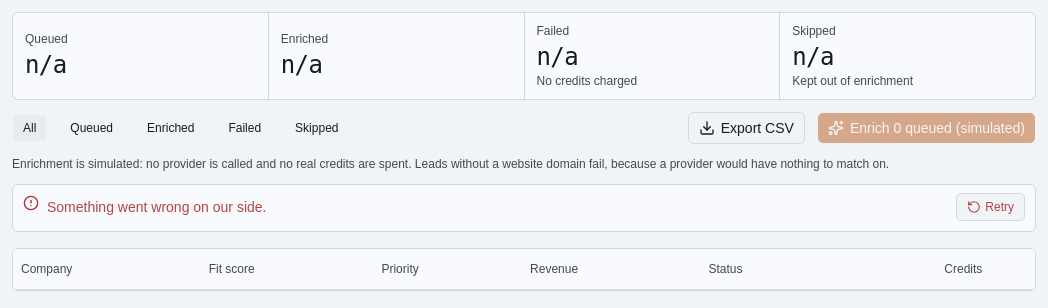
Test: QueueView › shows a load error and recovers on retry
expect the text "Something went wrong on our side." is shown: met, box [47,197,266,217]
Click the button "Retry". click: (991, 207)
box: [956,193,1025,221]
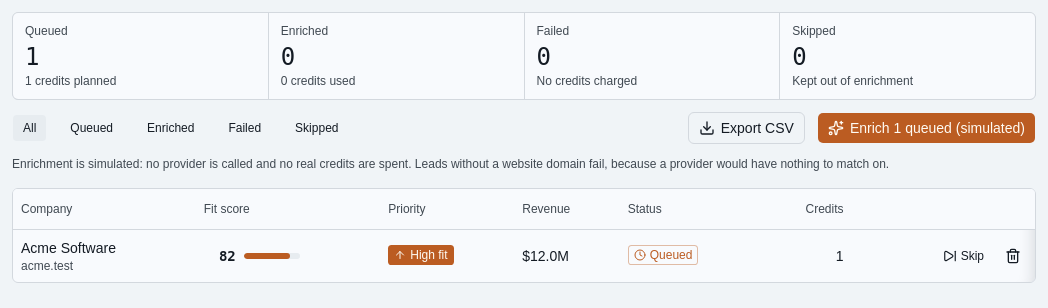
expect the row with test id "queue-row" shows "Acme Software": met, box [21,240,116,256]
expect the text "Something went wrong on our side." is gone: met
